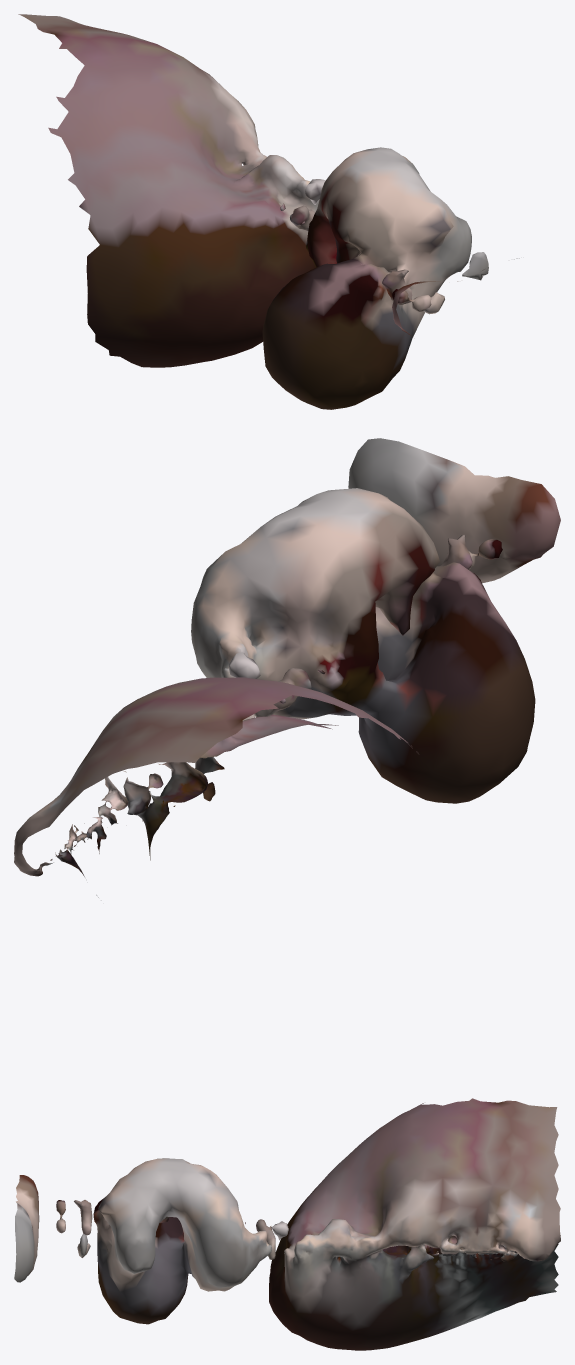
The picture shows the model from 3 angles, top to bottom: view 1: azimuth 30°, elevation 25°; view 2: azimuth 150°, elevation 25°; view 3: azimuth 270°, elevation 25°; orthographic projection. The views are drawn at different scales.
Size of the model in its own units: 1075 by 1025 by 2215.
